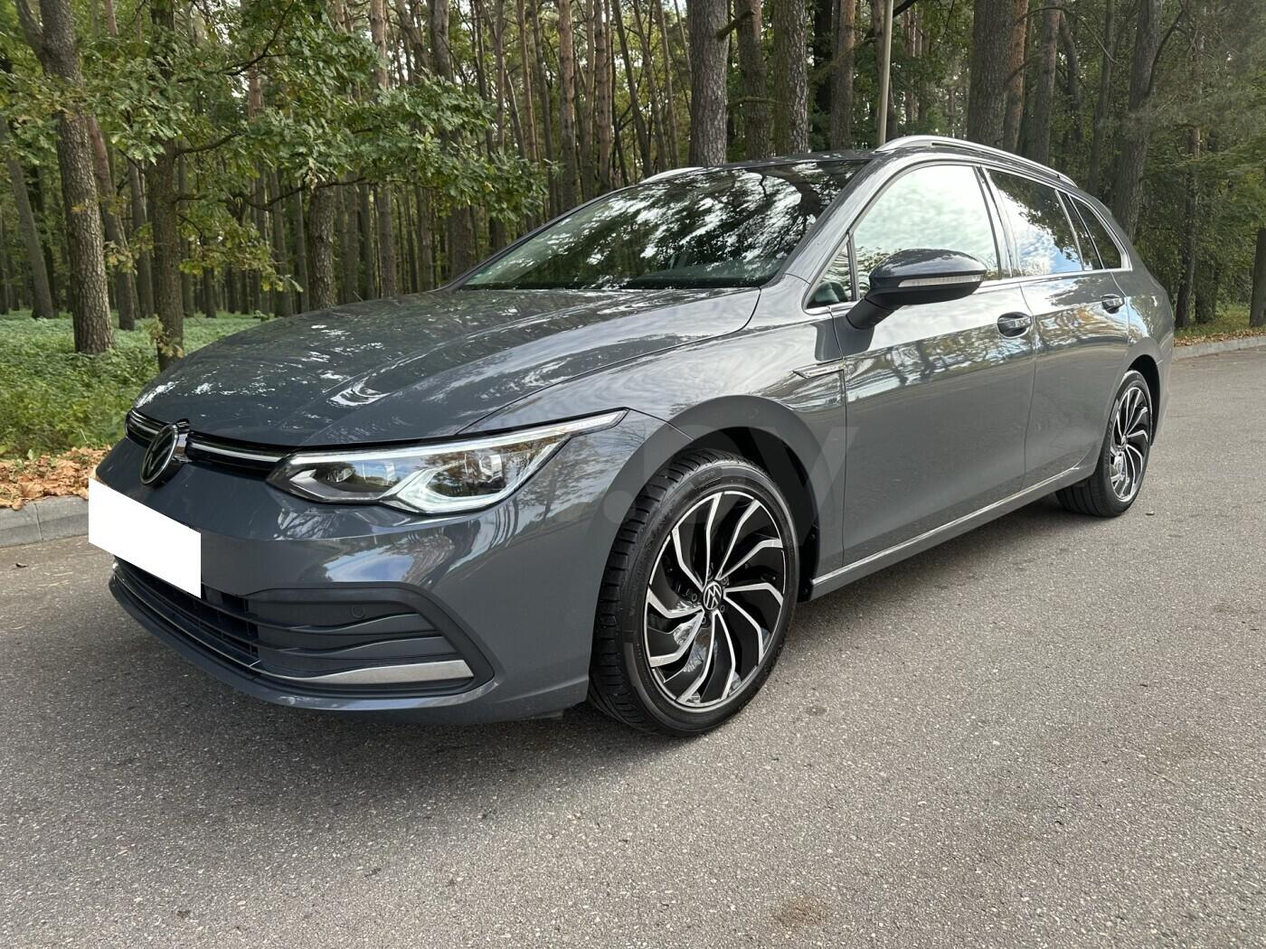Golf_2019: (85, 125, 1178, 747)
